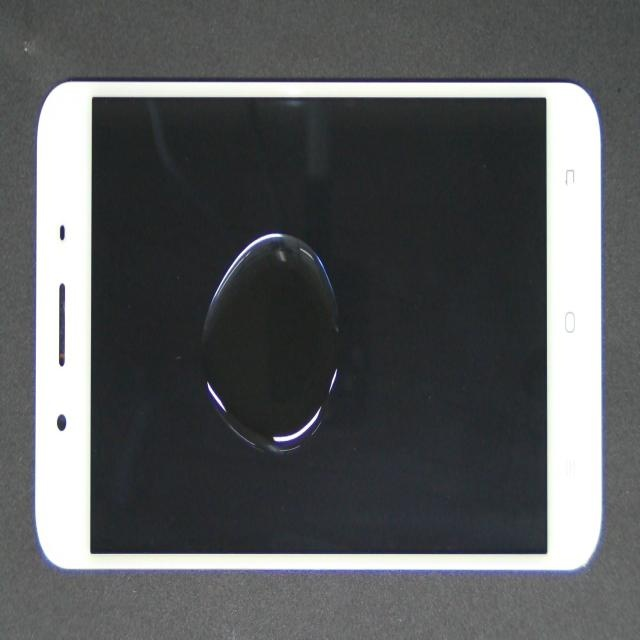oil: (116, 283, 458, 640)
